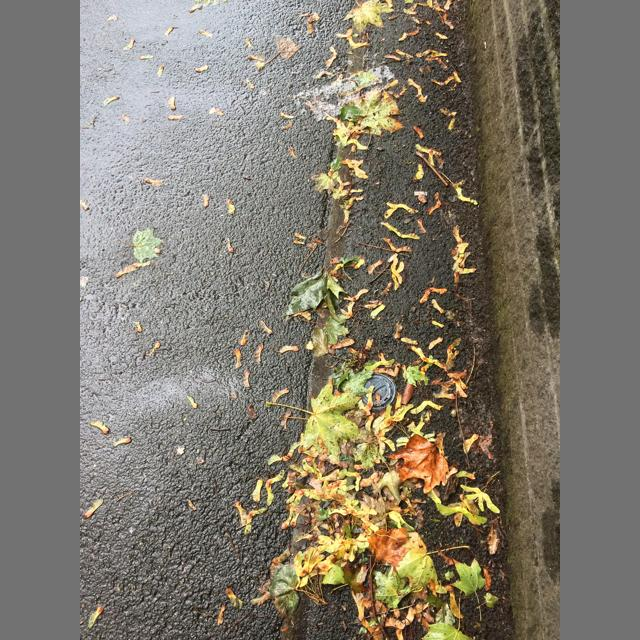litter: (362, 373, 397, 411)
